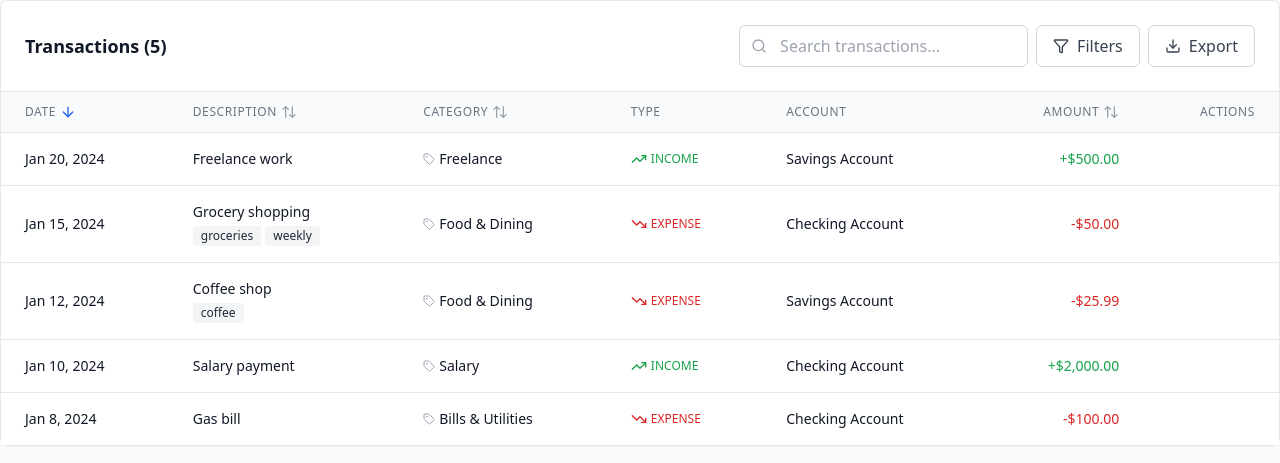
Scenario: TransactionList › Search Functionality › shows no results message when search yields no matches
The image size is (1280, 463).
Step 1. Type "nonexistent" into the field with placeholder "Search transactions..." → x=884, y=46, box [739, 25, 1028, 67]
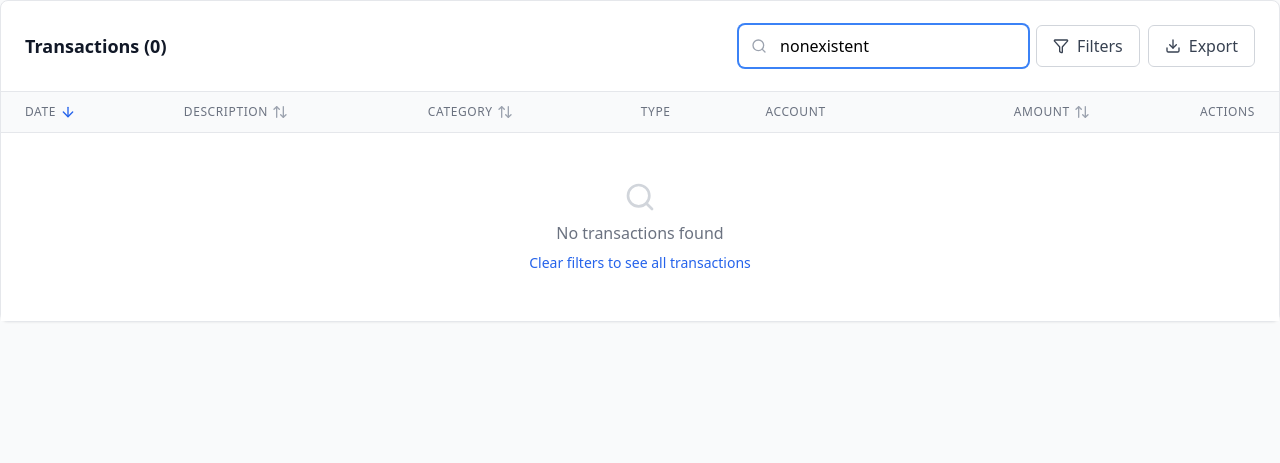
Check: the text "No transactions found" is shown, box [556, 221, 724, 245]
